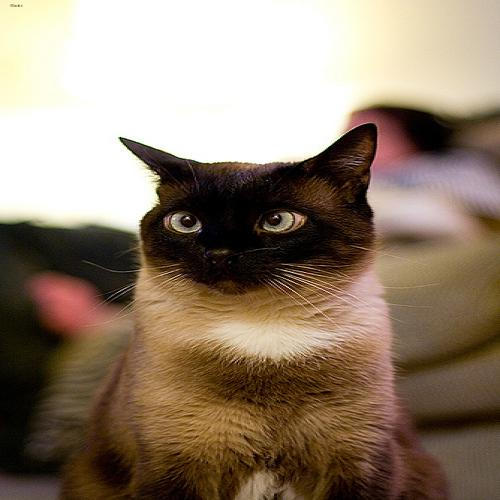siamese: (82, 96, 402, 306)
